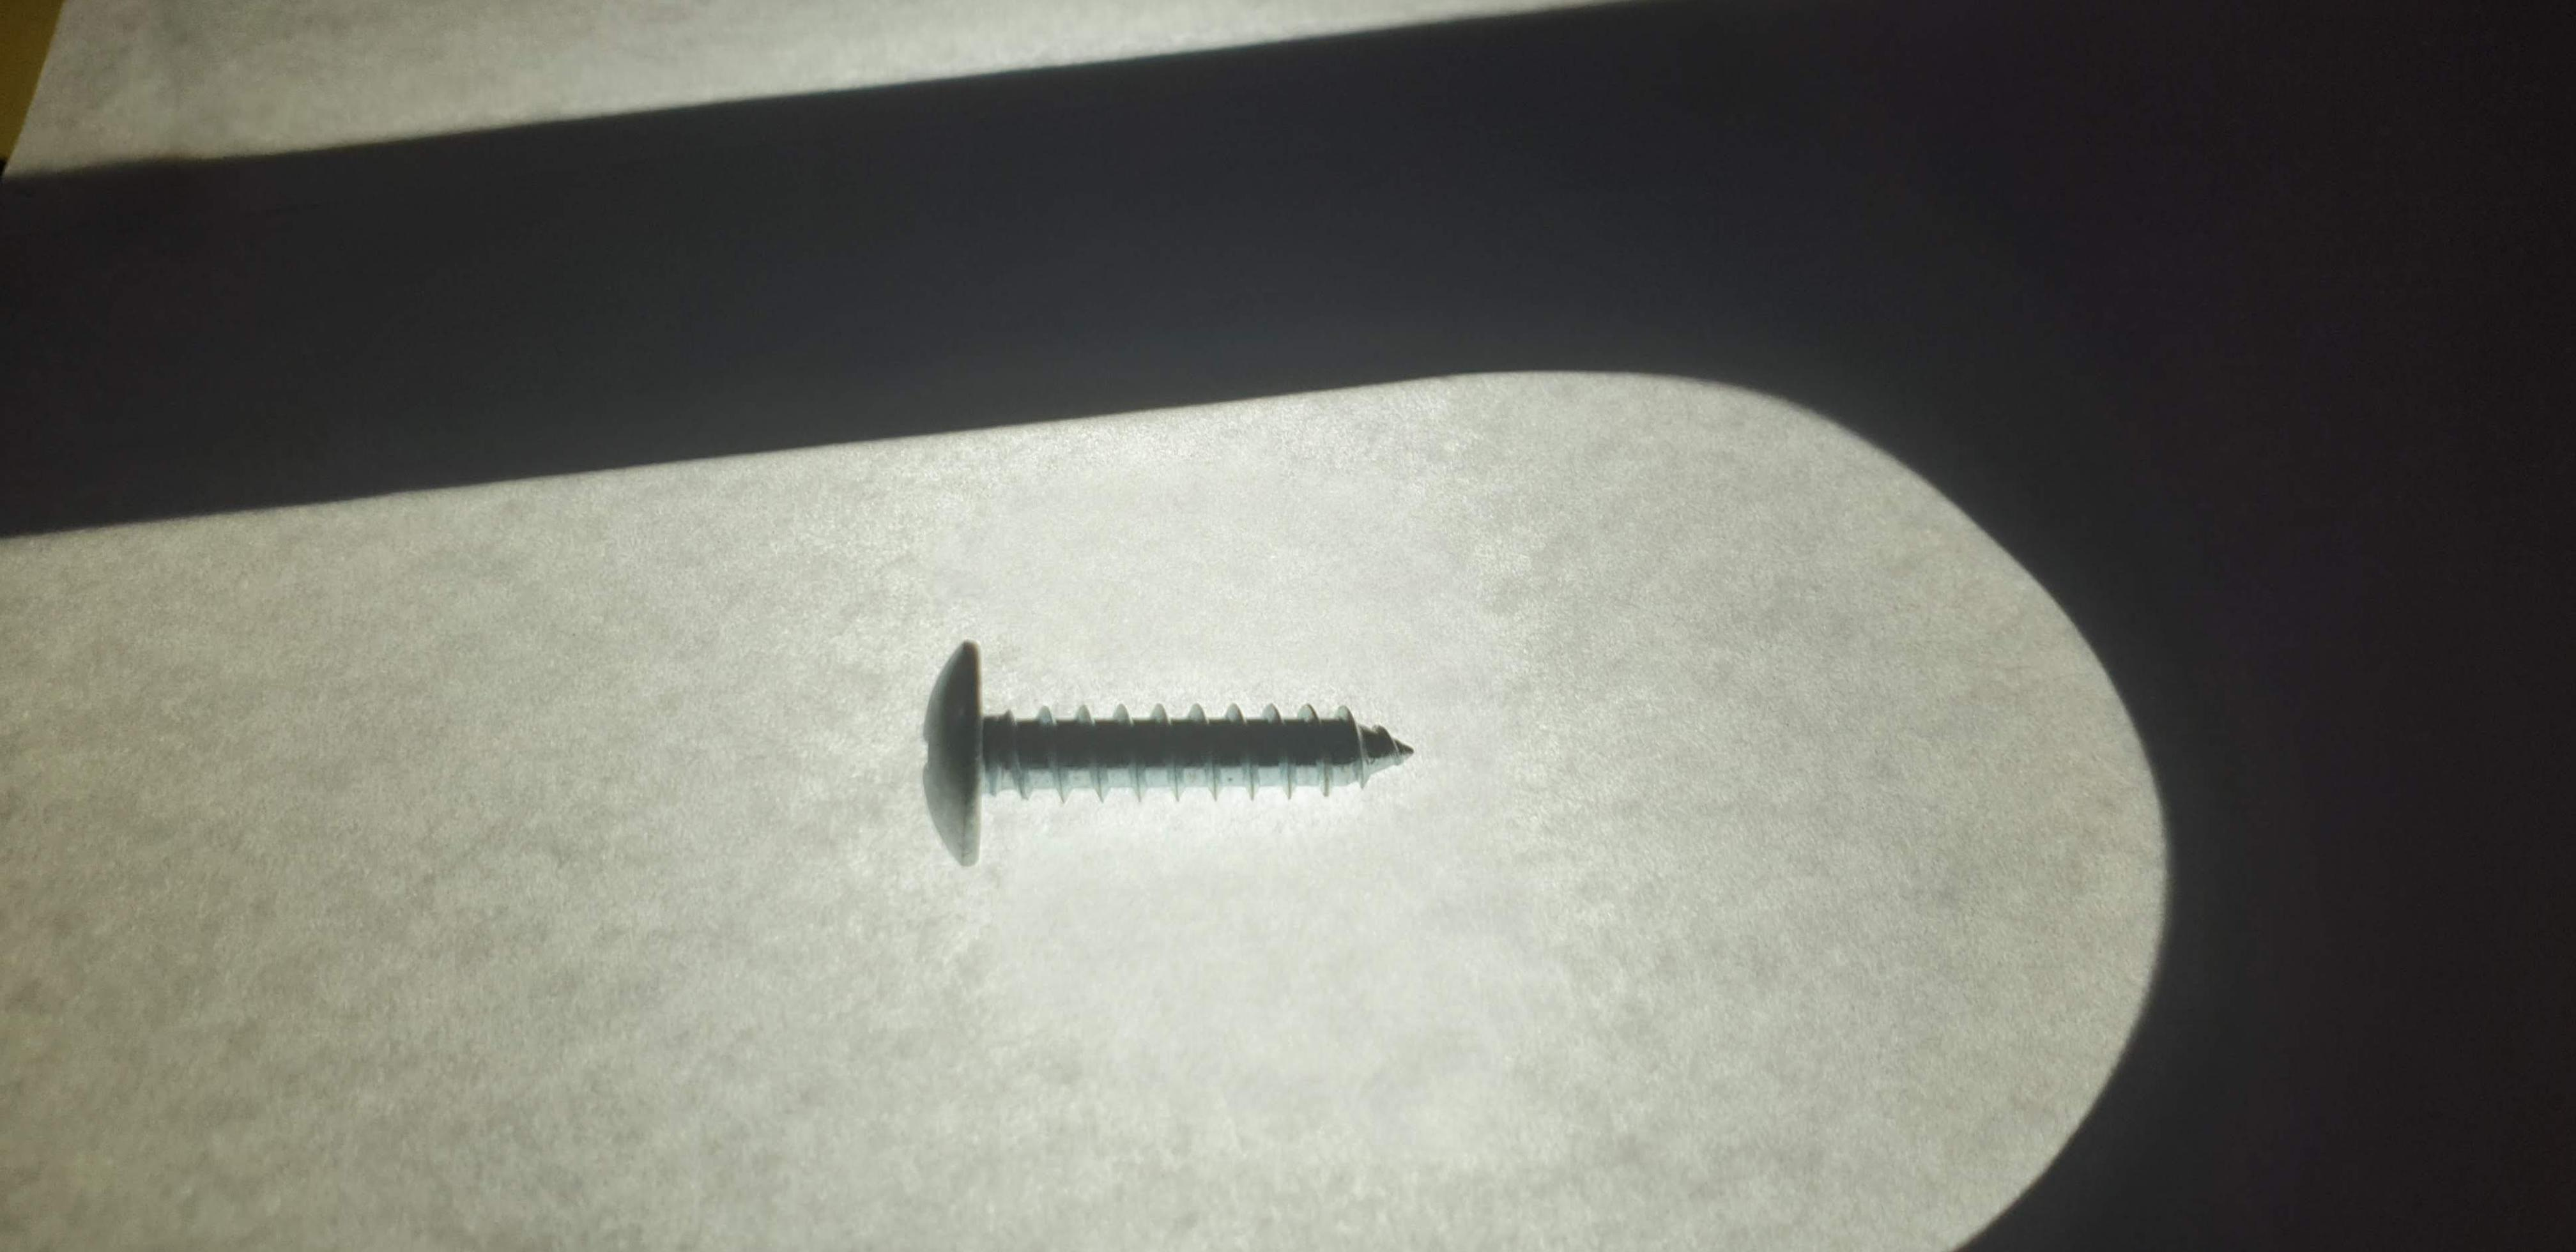S002: (890, 587, 1474, 887)
